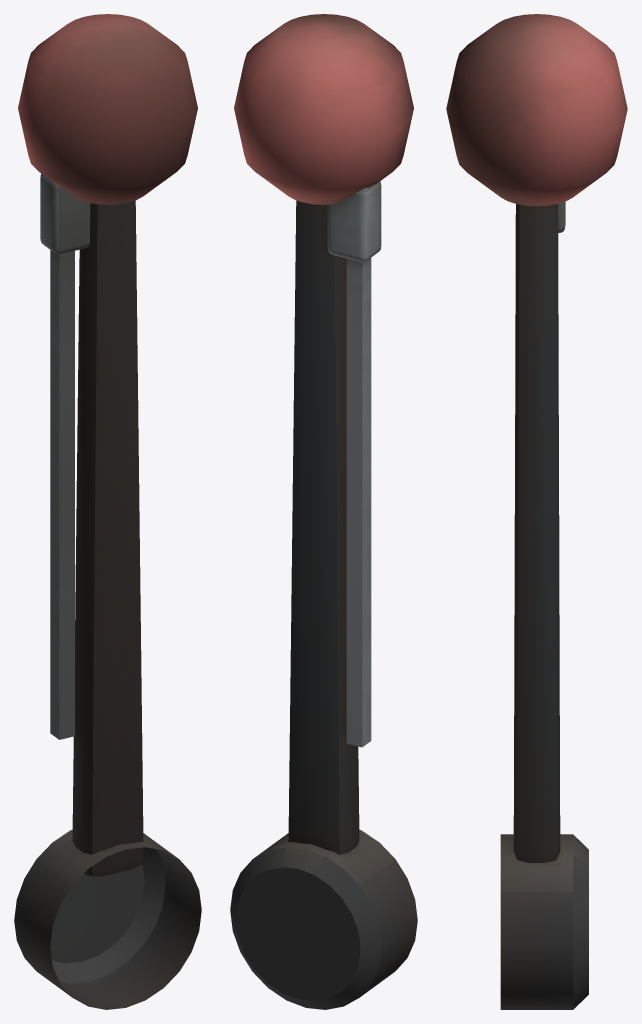
File: SM_Circulator_01_Lever.fbx
3 renders of one model, left to right at view 1: azimuth 30°, elevation 25°; view 2: azimuth 150°, elevation 25°; view 3: azimuth 270°, elevation 25°, orthographic.
Visible parts, largest first — view 1: SM_Circulator_01_Lever; view 2: SM_Circulator_01_Lever; view 3: SM_Circulator_01_Lever.
Boxes of the visible parts, x1,y1,x2,y2 form: SM_Circulator_01_Lever: (14,14,201,1009); SM_Circulator_01_Lever: (230,14,417,1009); SM_Circulator_01_Lever: (446,14,627,1009).
Size of what is drawn, in the model's own units: 7 by 41.5 by 7.
Materials: 1 (1 with a texture image).
